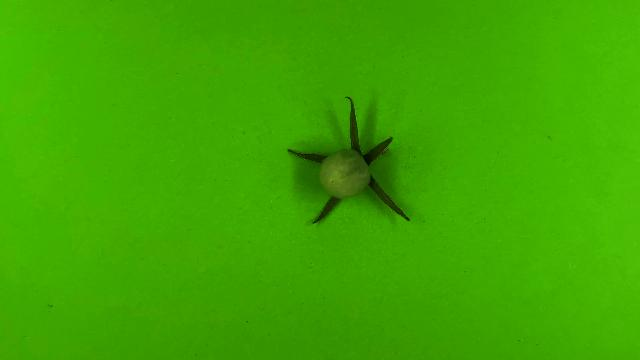Fruit Maturation: (317, 148, 372, 200)
